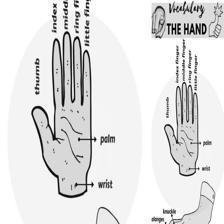Hand: (30, 23, 89, 184)
